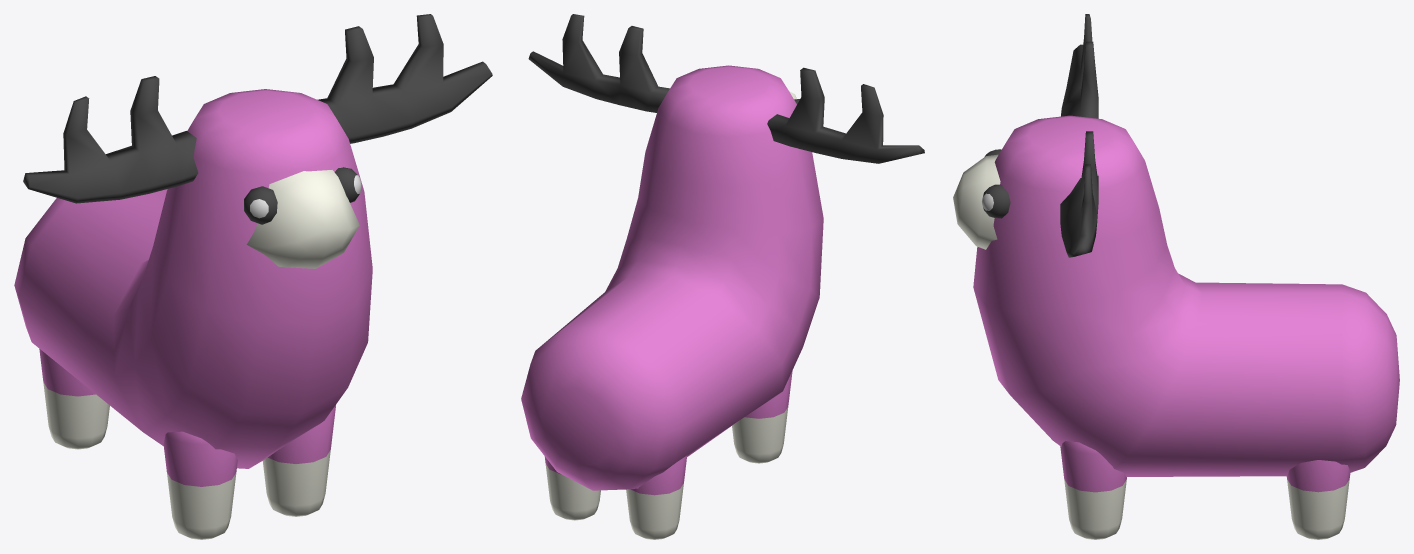
3 renders of one model, left to right at view 1: azimuth 30°, elevation 25°; view 2: azimuth 150°, elevation 25°; view 3: azimuth 270°, elevation 25°, orthographic. The views are drawn at different scales.
Parts seen in each view (by area): view 1: 43; view 2: 43; view 3: 43.
Part boxes in pixels (x1,y1,x2,y2): 43: (14, 14, 492, 539); 43: (521, 14, 924, 539); 43: (953, 14, 1399, 539).
Size of the model in its own units: 371 by 358 by 343.
